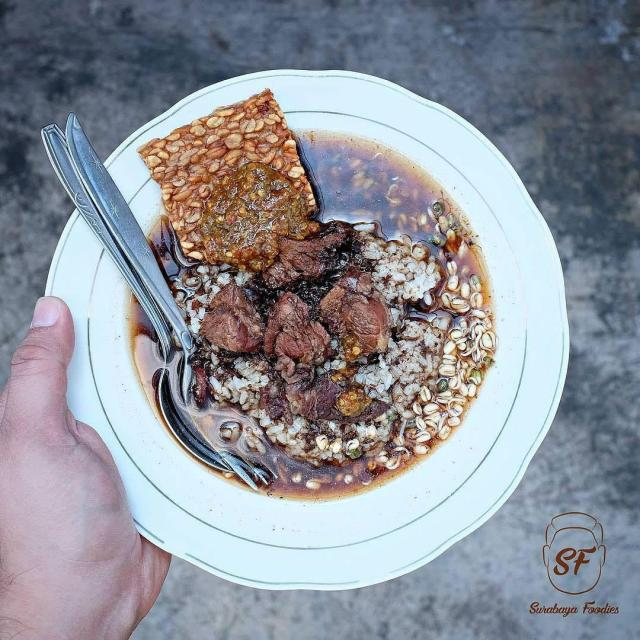Rawon: (100, 138, 482, 495)
